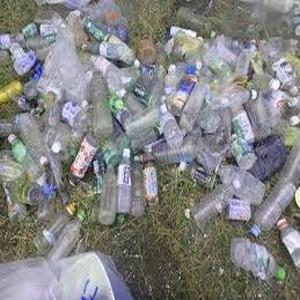Plastic: (228, 237, 289, 284), (46, 206, 92, 261), (253, 183, 297, 237), (217, 162, 265, 206), (89, 69, 116, 139), (264, 42, 300, 94), (122, 100, 169, 139), (116, 148, 134, 215), (140, 141, 159, 202)
